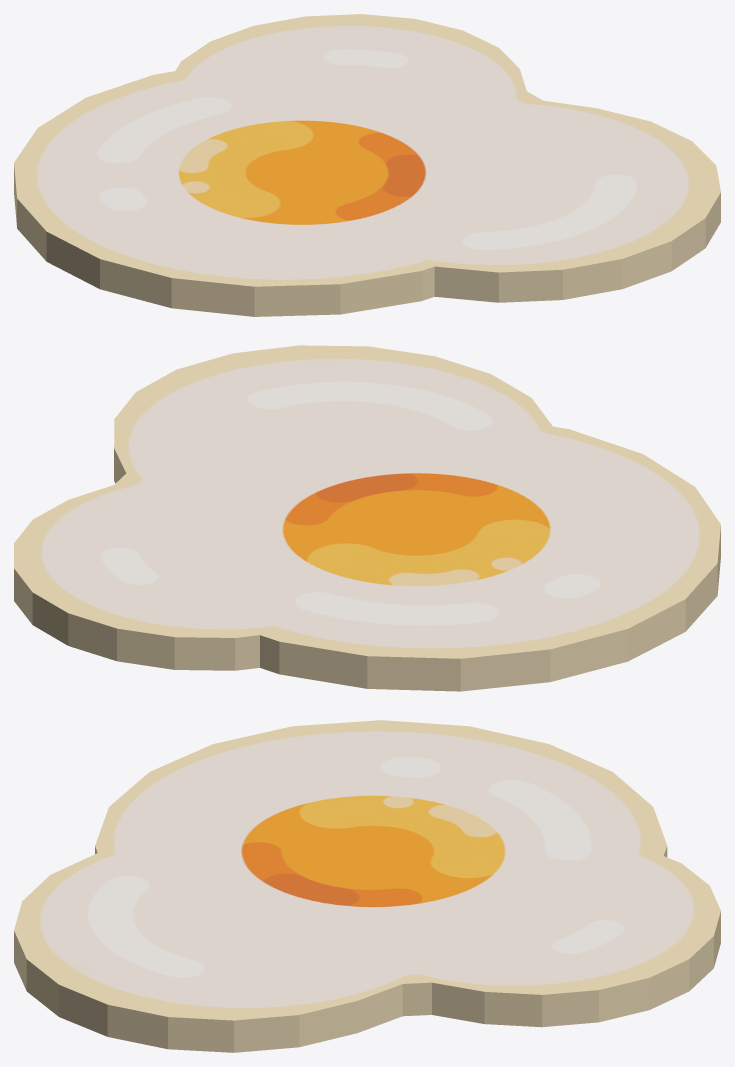
Rendered from Egg_Slice.glb.
The picture shows the model from 3 angles, top to bottom: view 1: azimuth 30°, elevation 25°; view 2: azimuth 150°, elevation 25°; view 3: azimuth 270°, elevation 25°; orthographic projection. The views are drawn at different scales.
Parts seen in each view (by area): view 1: Egg_Slice; view 2: Egg_Slice; view 3: Egg_Slice.
Part boxes in pixels (bbox=[...]): Egg_Slice: bbox=[14, 14, 720, 316]; Egg_Slice: bbox=[14, 345, 720, 691]; Egg_Slice: bbox=[14, 720, 720, 1052].
Size of the model in its own units: 19.95 by 1 by 19.84.
Materials: 1 (1 with a texture image).
